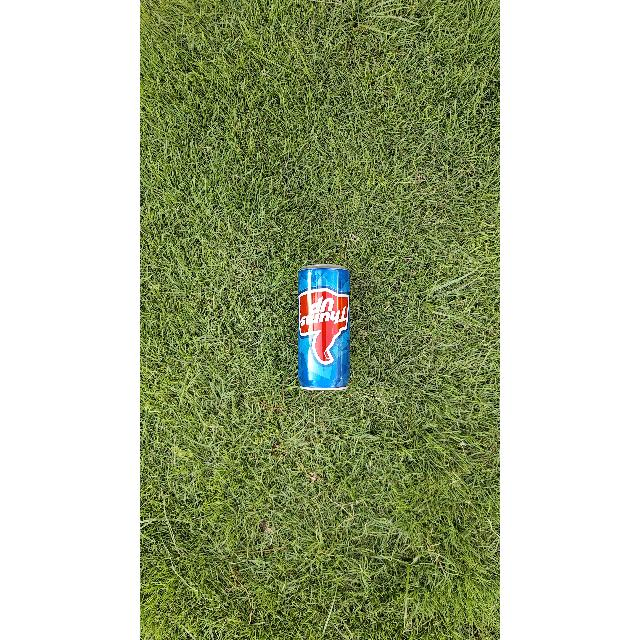Thums Up: (292, 262, 353, 390)
